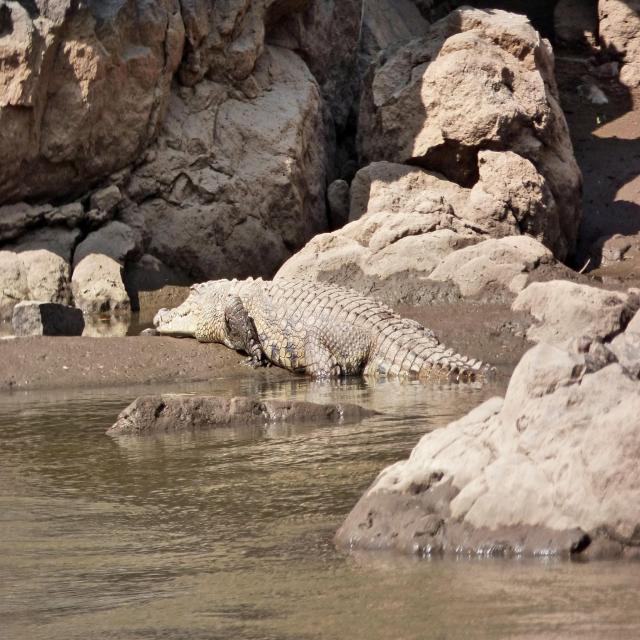crocodile: (166, 275, 496, 395)
